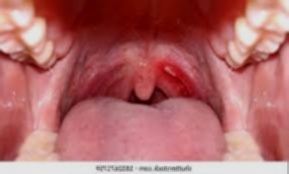Ulcer: (162, 64, 176, 80)
